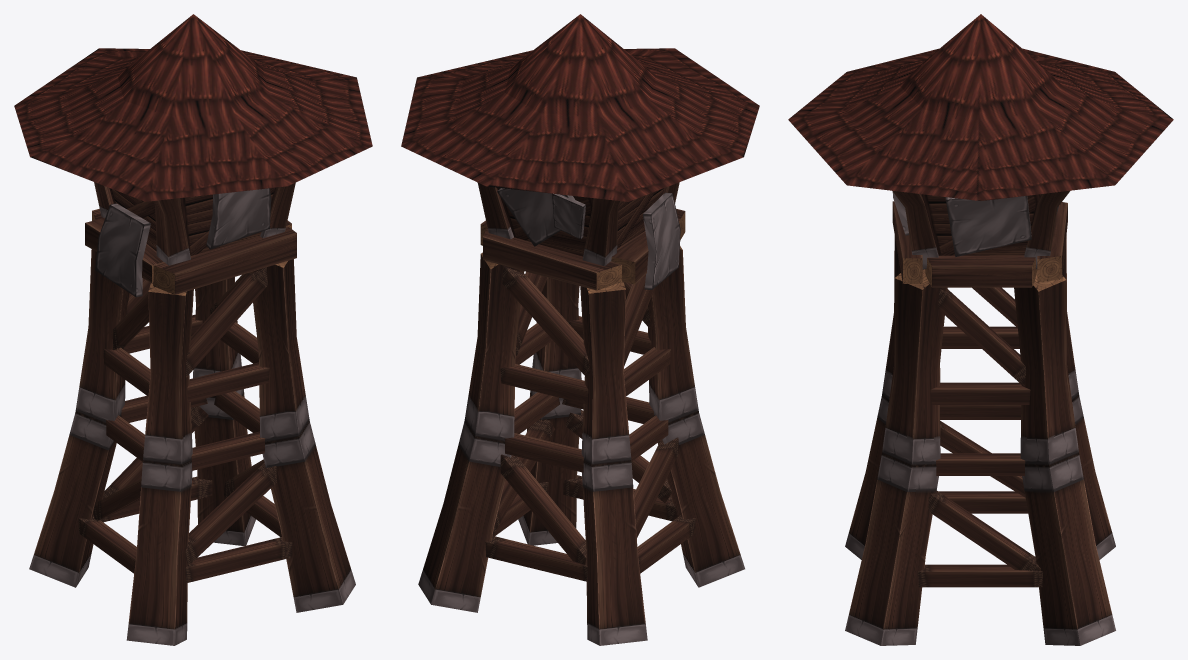
The model's file is Tower.FBX.
The picture shows the model from 3 angles, left to right: view 1: azimuth 30°, elevation 25°; view 2: azimuth 150°, elevation 25°; view 3: azimuth 270°, elevation 25°; orthographic projection. The views are drawn at different scales.
Visible parts, largest first — view 1: Box022, Box023; view 2: Box022, Box023; view 3: Box022, Box023.
Boxes of the visible parts, x1=… form: Box022: x1=29, y1=249, x2=355, y2=645; Box023: x1=14, y1=14, x2=372, y2=297; Box022: x1=418, y1=246, x2=744, y2=645; Box023: x1=401, y1=14, x2=759, y2=290; Box022: x1=845, y1=235, x2=1115, y2=645; Box023: x1=788, y1=14, x2=1173, y2=287.
Bounding box in the file's own units: 71.86 × 121 × 71.86.
